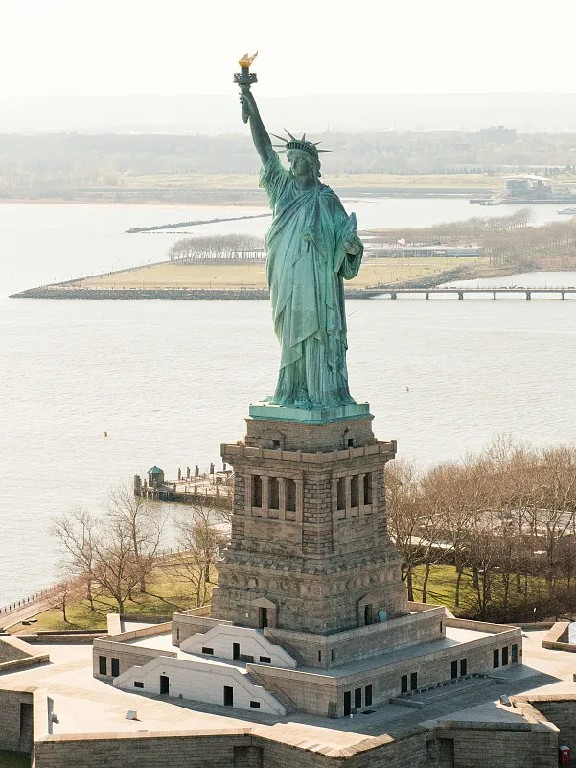SL: (209, 51, 405, 635)
